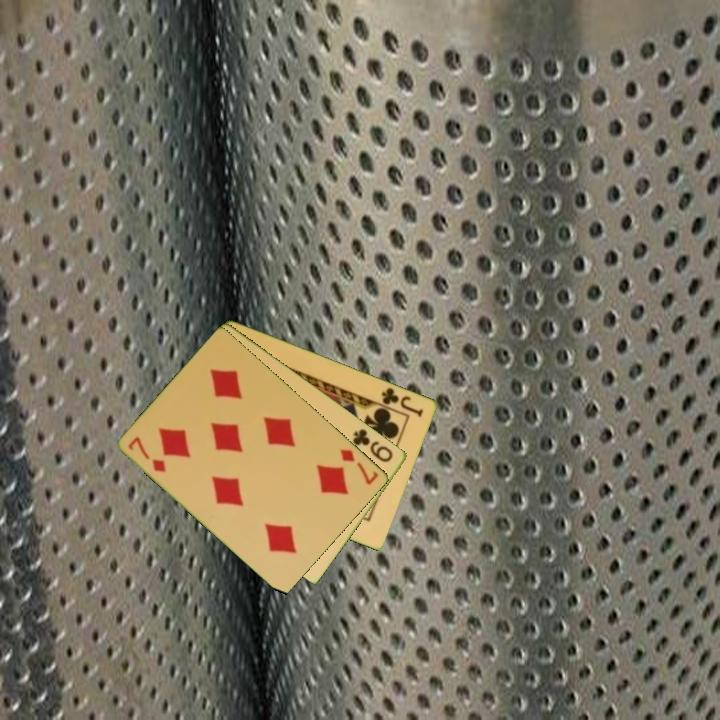7d: (337, 445, 382, 488), (125, 433, 169, 475)
9c: (349, 425, 396, 465)
Jc: (378, 384, 427, 420)
